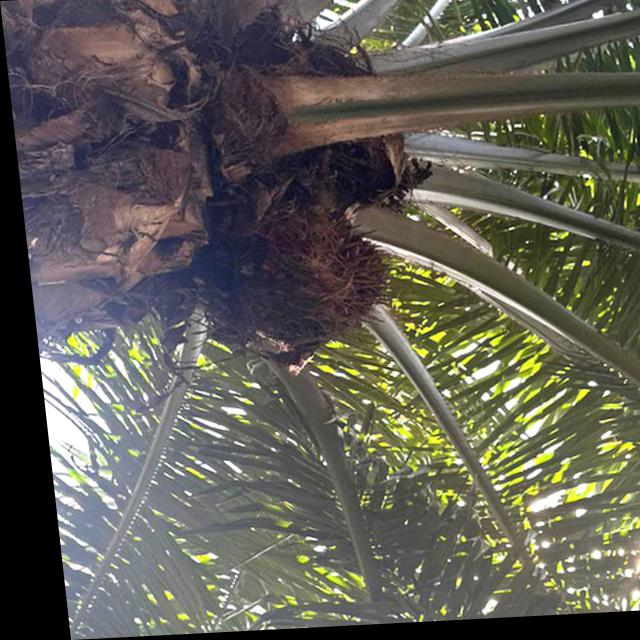ripe: (202, 188, 406, 370)
